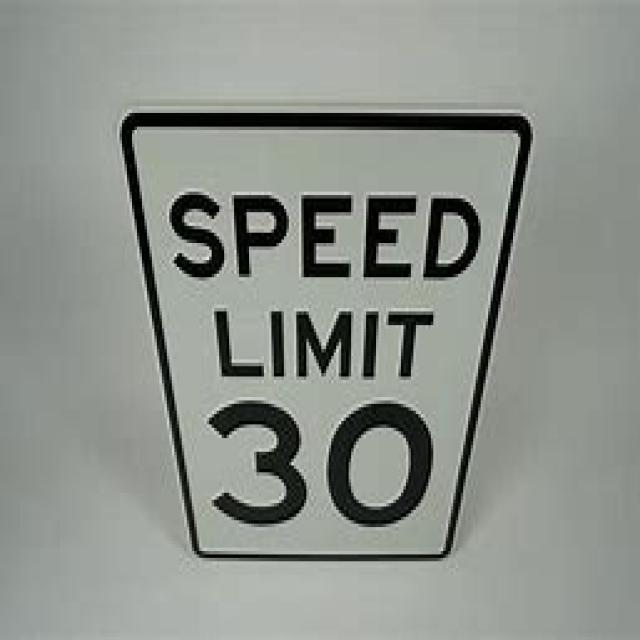speedLimit30: (116, 103, 536, 582)
